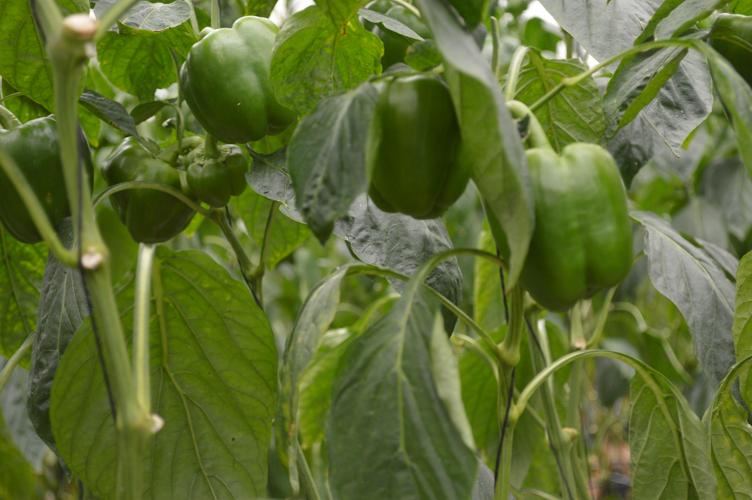BellPepper: (510, 141, 630, 294), (357, 74, 466, 222), (176, 18, 290, 140), (9, 116, 94, 229), (106, 138, 195, 244), (187, 147, 247, 206)
